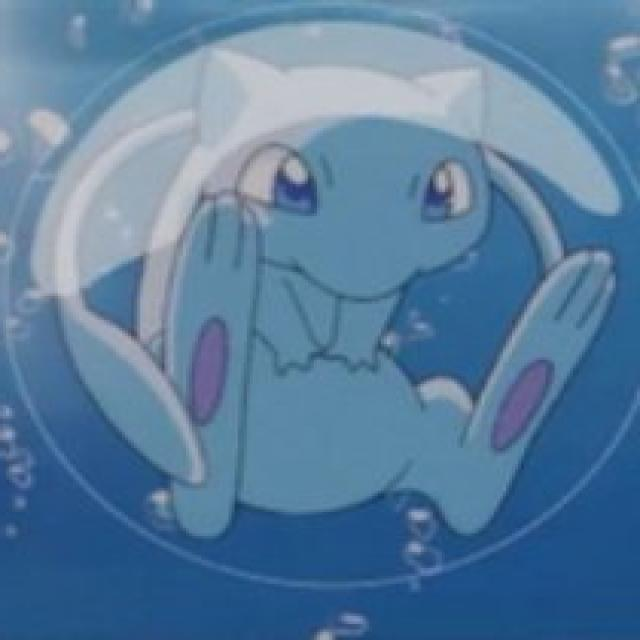Mew: (192, 59, 494, 440)
